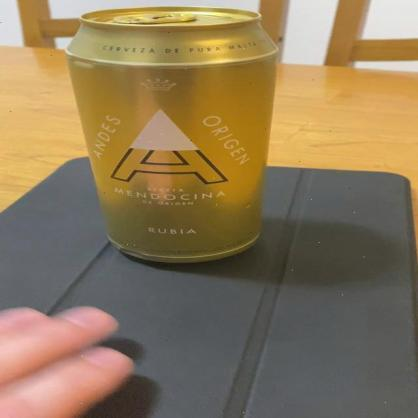can: (67, 6, 280, 268)
